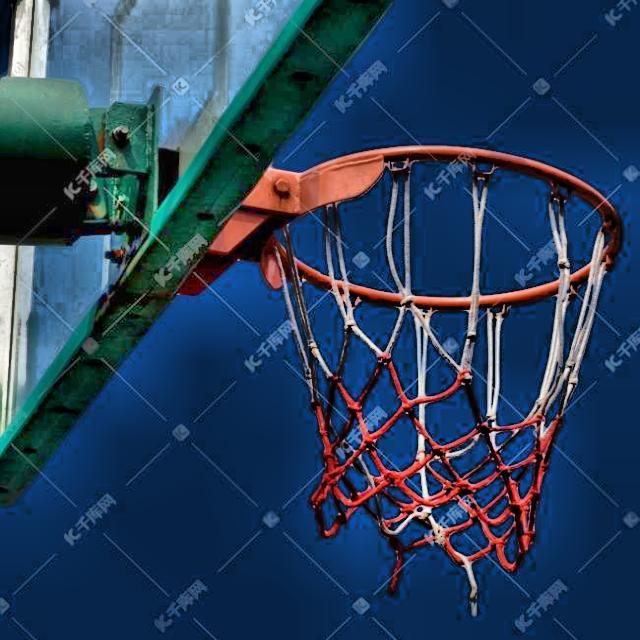rim: (270, 147, 623, 585)
